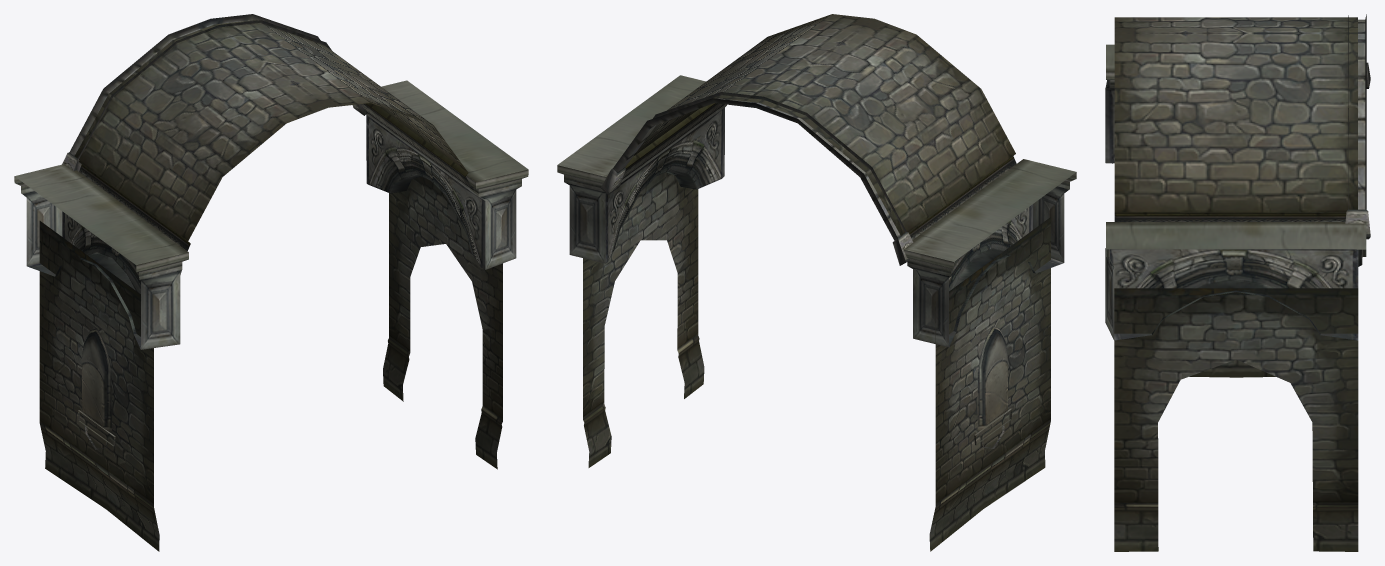
The model's file is DN_1_4_ldao03_b.FBX.
3 views of the same model, side by side, from view 1: azimuth 30°, elevation 25°; view 2: azimuth 150°, elevation 25°; view 3: azimuth 270°, elevation 25° (orthographic). The views are drawn at different scales.
Visible parts, largest first — view 1: DN_1_4_ldao03_b; view 2: DN_1_4_ldao03_b; view 3: DN_1_4_ldao03_b.
Part boxes in pixels (x1,y1,x2,y2): DN_1_4_ldao03_b: [14, 14, 528, 551]; DN_1_4_ldao03_b: [557, 14, 1076, 551]; DN_1_4_ldao03_b: [1105, 14, 1370, 551].
Bounding box in the file's own units: 902 × 890 × 494.
